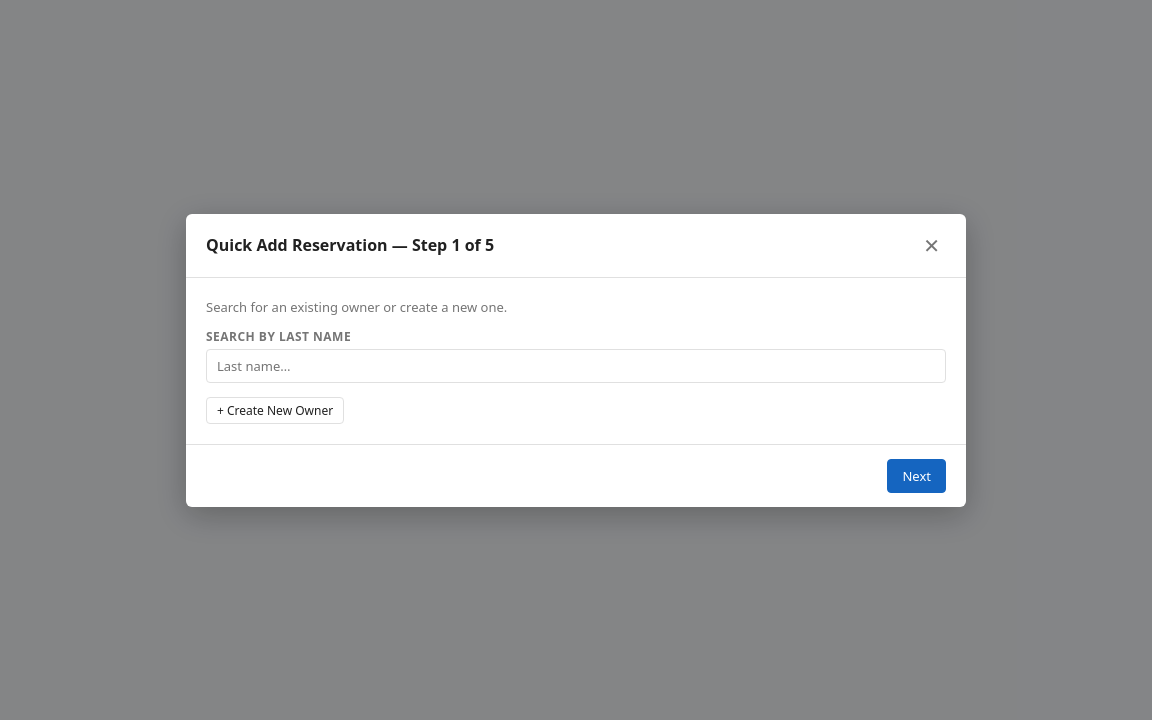
Scenario: QuickAddWizard — Step 1 (Owner) › shows validation error when Next is clicked with no owner selected
Click the button "Next" at (917, 476), box top-left (888, 458), bottom-right (946, 492)
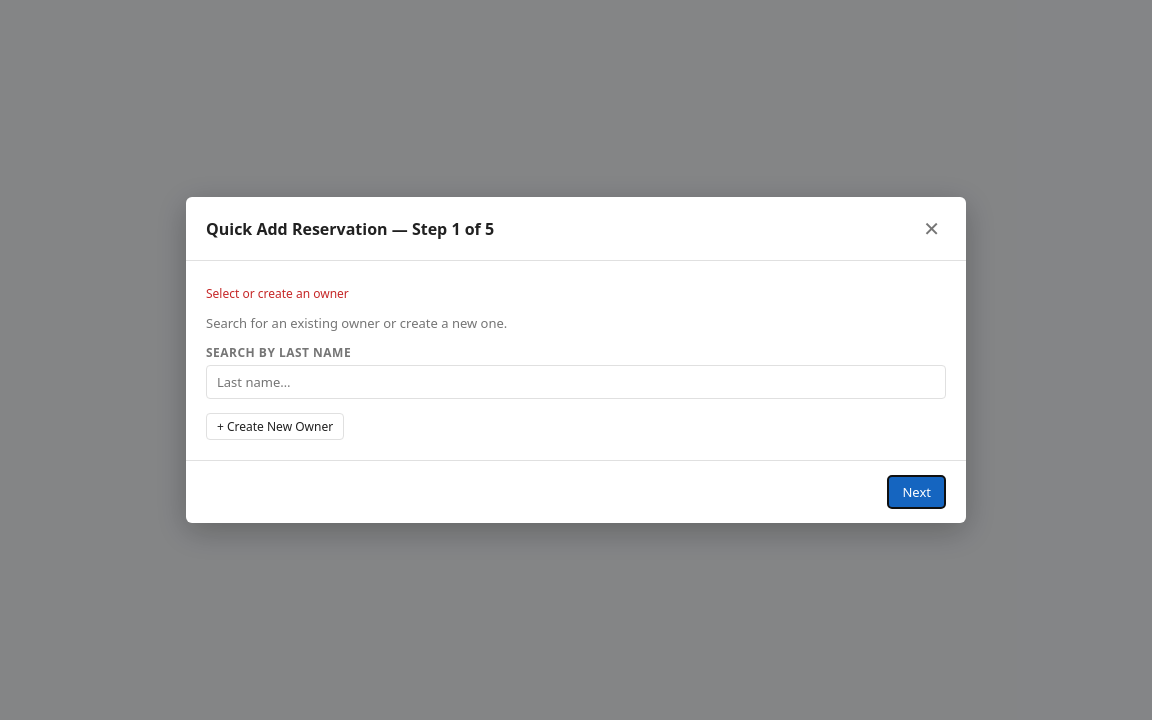
Check: the text "Select or create an owner" is shown, box top-left (206, 285), bottom-right (349, 302)
